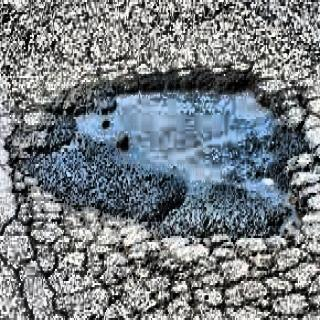alligator-crack: (5, 189, 320, 320)
pothole: (30, 67, 318, 244)
